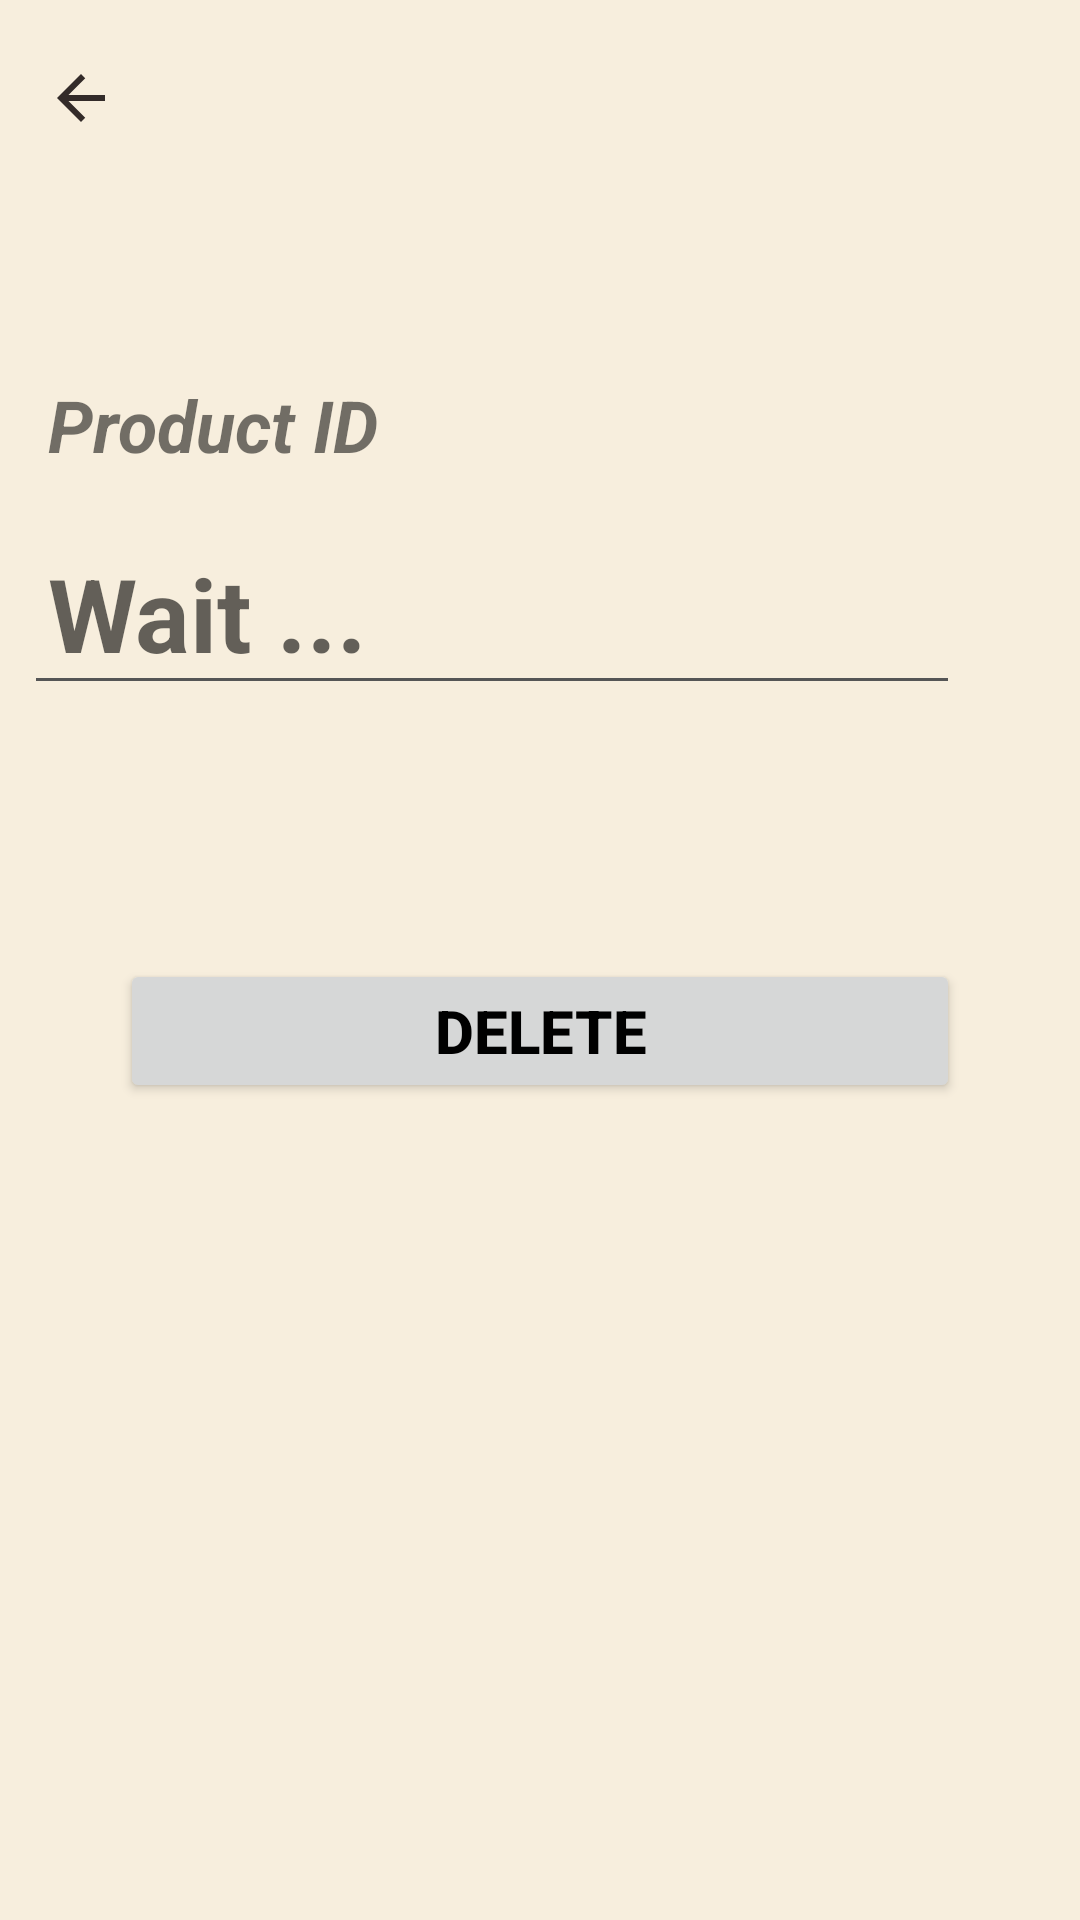

Where icons sit on this 1080px x 1920px app screen, as box(x1, y1, x2, y2):
arrow back: box(57, 74, 105, 122)
